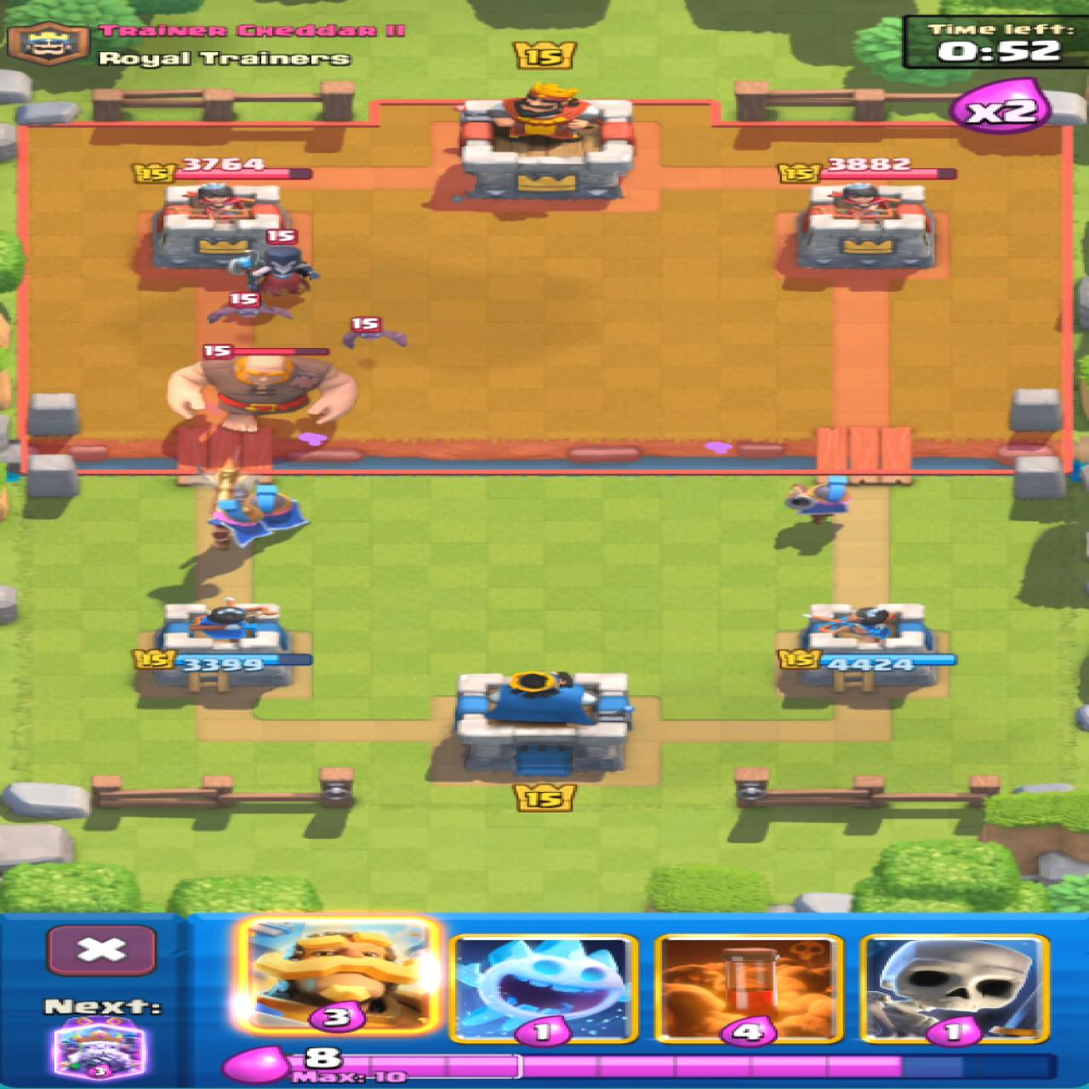Enemy-Bat: (207, 293, 290, 323), (344, 319, 405, 346)
Enemy-Giant: (170, 355, 353, 431)
Enemy-KingTower: (460, 82, 632, 198)
Enemy-NightWitch: (229, 245, 318, 295)
Enemy-PrincessTower: (152, 179, 292, 267), (797, 184, 934, 270)
